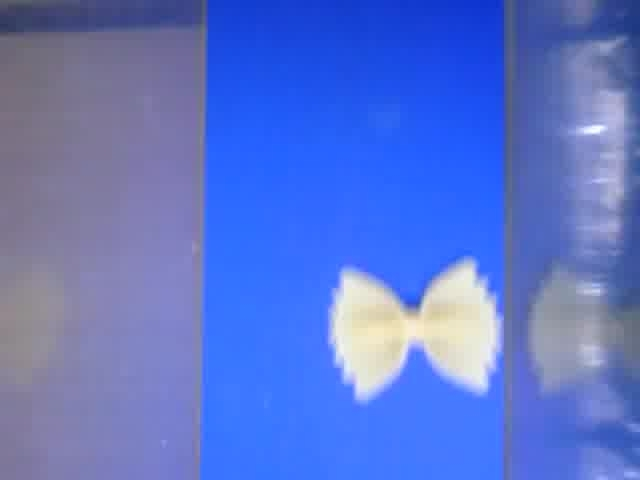farfalle: (329, 255, 501, 401)
